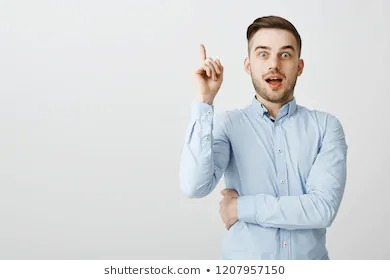F_shirt: (180, 80, 347, 259)
